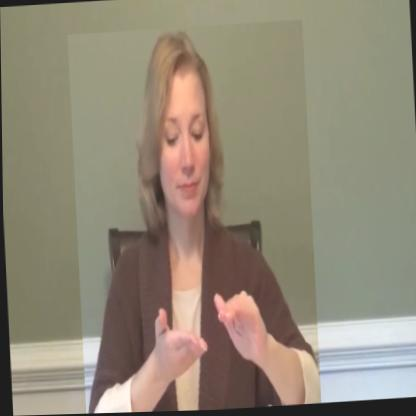ExcuseMe: (67, 21, 320, 414)
